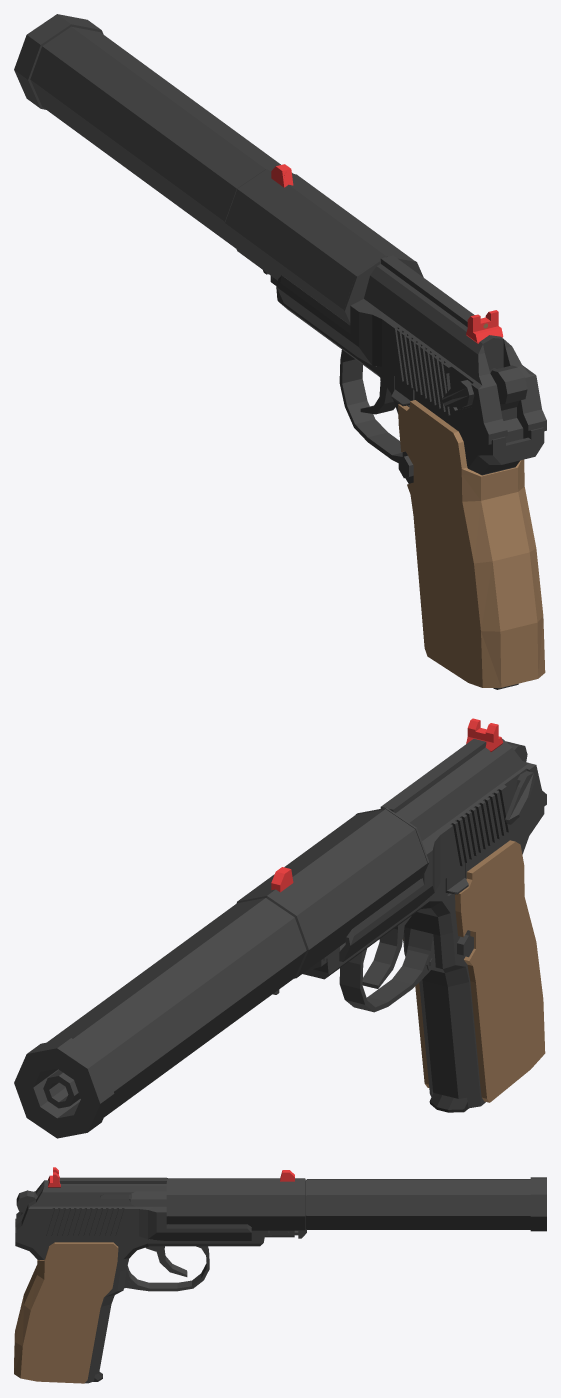
The model's file is pistol_12.glb.
3 renders of one model, top to bottom at view 1: azimuth 30°, elevation 25°; view 2: azimuth 150°, elevation 25°; view 3: azimuth 270°, elevation 25°, orthographic. The views are drawn at different scales.
Parts seen in each view (by area): view 1: p22_accent, p0_paint, p10_paint, p2_paint, p9_paint, p11_paint, p28_paint, p13_paint, p25_del; view 2: p0_paint, p22_accent, p2_paint, p10_paint, p9_paint, p11_paint, p13_paint, p12_paint, p24_paint, p25_del, p30_mag; view 3: p0_paint, p22_accent, p10_paint, p2_paint, p9_paint, p11_paint, p13_paint, p12_paint, p28_paint.
Boxes of the visible parts, left/top/right/bottom form: p22_accent: left=398, top=400, right=545, bottom=687; p0_paint: left=14, top=14, right=293, bottom=248; p10_paint: left=276, top=264, right=546, bottom=444; p2_paint: left=225, top=169, right=423, bottom=324; p9_paint: left=273, top=277, right=544, bottom=483; p11_paint: left=339, top=350, right=402, bottom=462; p28_paint: left=490, top=365, right=527, bottom=442; p13_paint: left=380, top=255, right=474, bottom=326; p25_del: left=466, top=310, right=503, bottom=343; p0_paint: left=14, top=898, right=306, bottom=1138; p22_accent: left=403, top=840, right=545, bottom=1102; p2_paint: left=236, top=807, right=429, bottom=978; p10_paint: left=339, top=738, right=546, bottom=961; p9_paint: left=303, top=807, right=544, bottom=1108; p11_paint: left=339, top=948, right=431, bottom=1012; p13_paint: left=380, top=739, right=486, bottom=813; p12_paint: left=362, top=916, right=411, bottom=988; p24_paint: left=505, top=771, right=535, bottom=824; p25_del: left=466, top=718, right=503, bottom=751; p30_mag: left=429, top=1093, right=468, bottom=1112; p0_paint: left=306, top=1177, right=546, bottom=1231; p22_accent: left=14, top=1242, right=118, bottom=1383; p10_paint: left=16, top=1180, right=251, bottom=1240; p2_paint: left=130, top=1178, right=305, bottom=1230; p9_paint: left=15, top=1218, right=268, bottom=1383; p11_paint: left=127, top=1246, right=209, bottom=1291; p13_paint: left=59, top=1177, right=166, bottom=1183; p12_paint: left=145, top=1246, right=187, bottom=1276; p28_paint: left=16, top=1190, right=37, bottom=1213.
Bounding box in the file's own units: 0.0334 × 0.1324 × 0.31.
